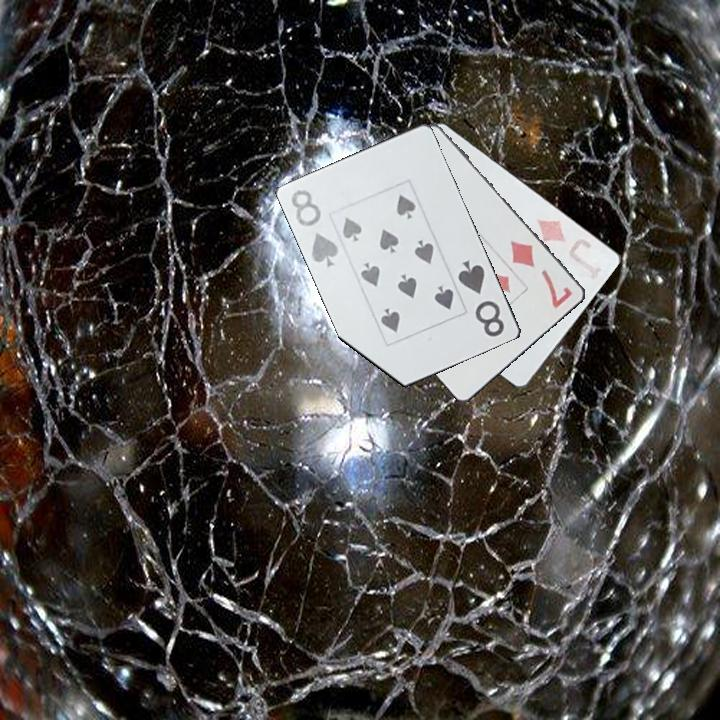7d: (507, 237, 575, 311)
8s: (288, 186, 342, 270), (454, 257, 508, 340)
Jd: (534, 215, 608, 282)
